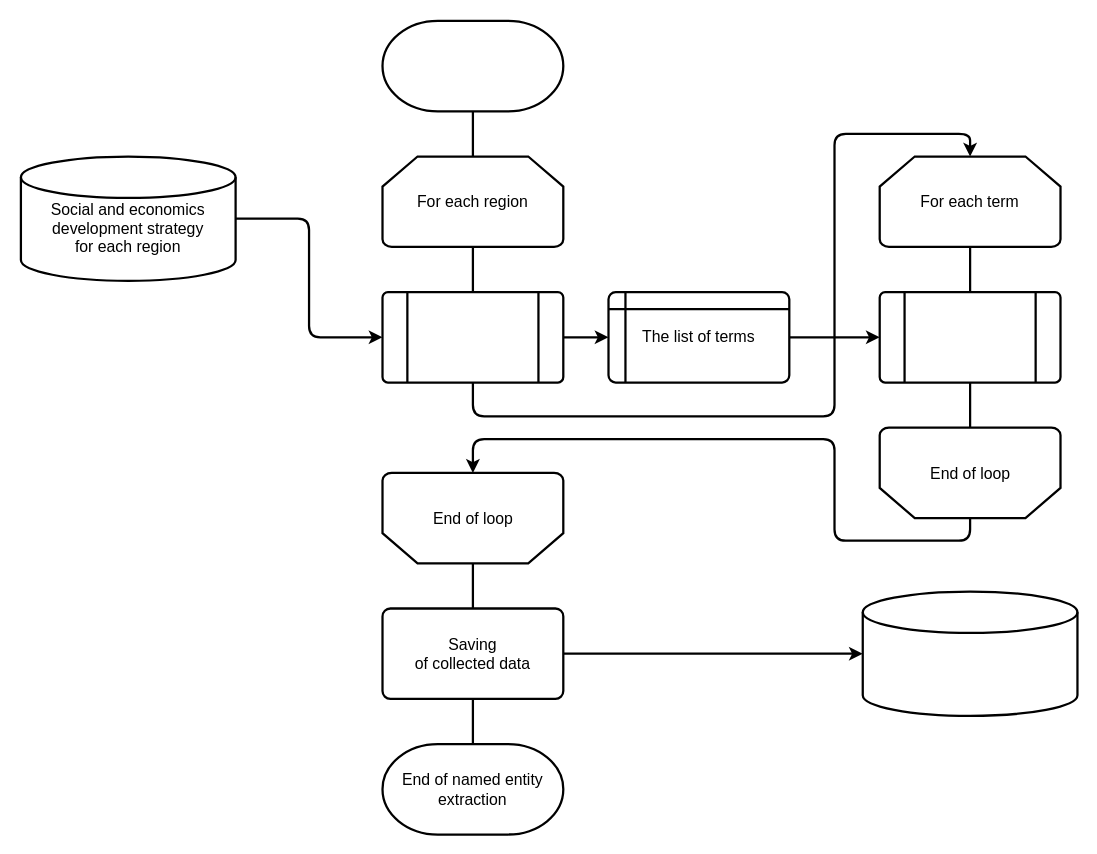
Some shapes in this 1097 by 854 pixel diagram are drawn without their labels. Each missing label, with the centre of its shape:
"Cast term to normal the form w pymorphy2" belongs at point (969, 336).
"Named entity list for each region" belongs at point (969, 653).
"Start named entity extraction" belongs at point (472, 65).
"Term extraction w rutermextract" belongs at point (472, 336).
